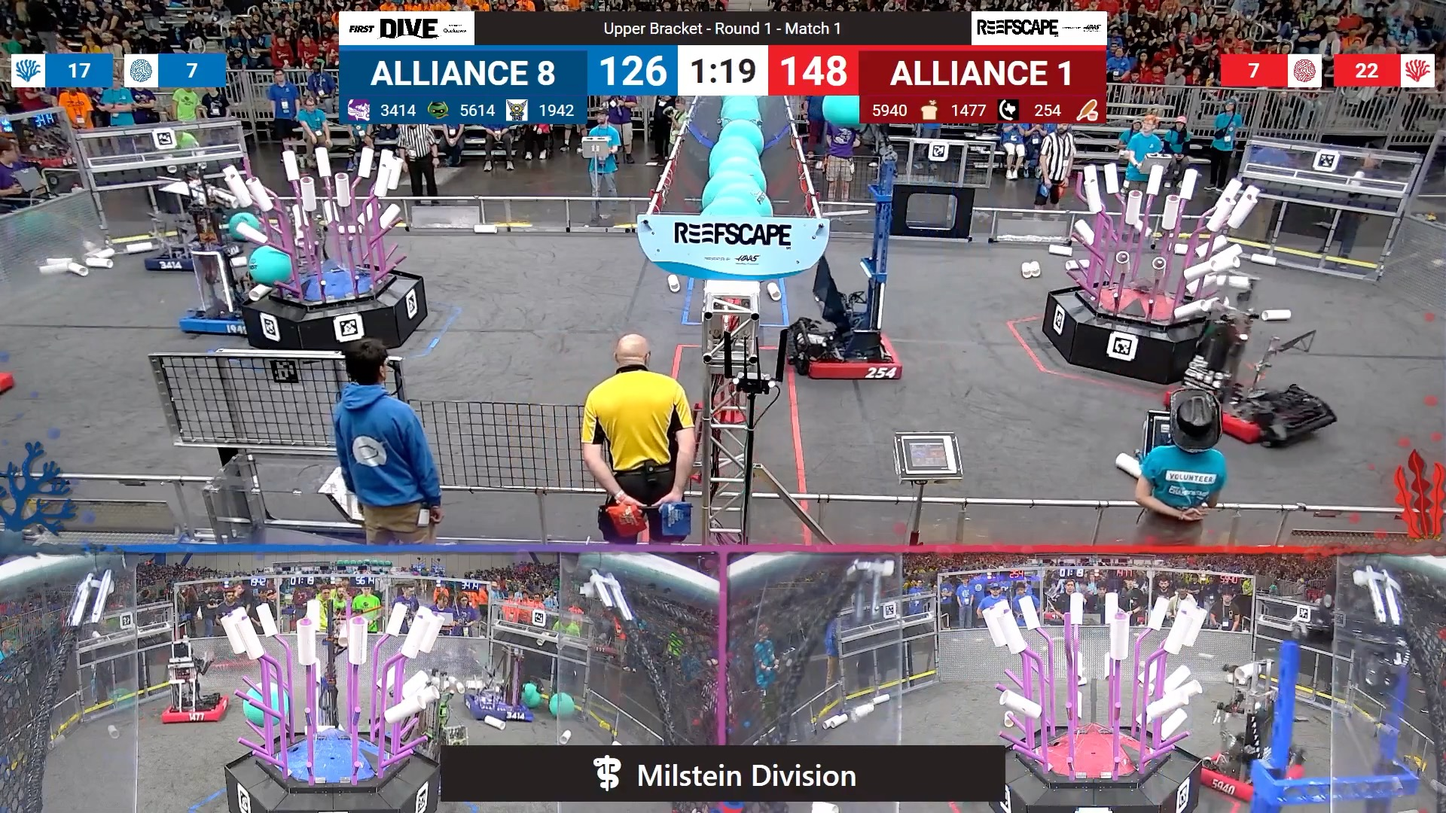bumpers: (1164, 375, 1334, 450), (785, 326, 909, 388), (177, 294, 255, 339), (461, 688, 533, 728), (154, 695, 235, 729), (138, 247, 215, 277), (0, 347, 22, 416)
